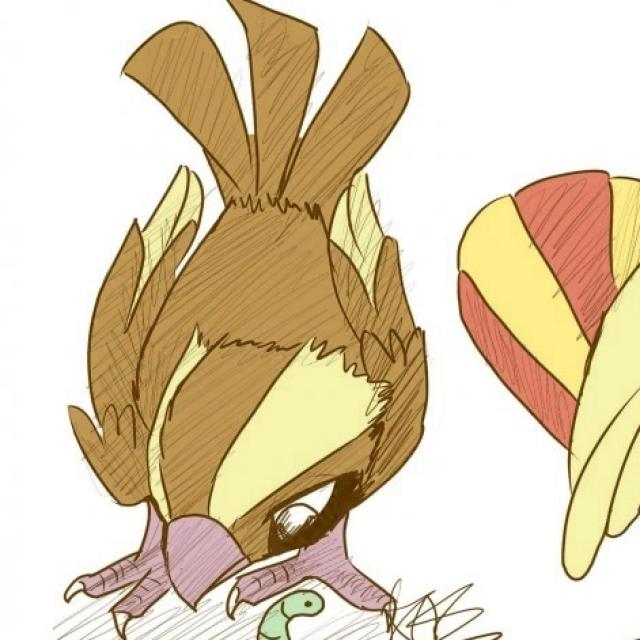Pidgey: (86, 26, 431, 632)
